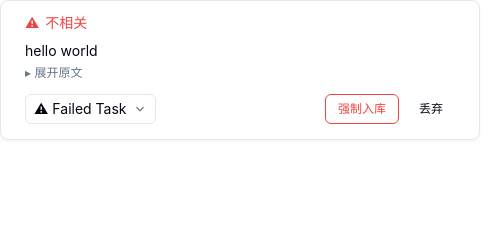
Overlay state machine › confirm button appears when reselecting different task in fallback mode
Check: the text "重新派发" is not shown
# 打开下拉并选择另一个任务
Click the button "⚠Failed Task" at (90, 109), box x1=25 y1=94 x2=156 y2=124
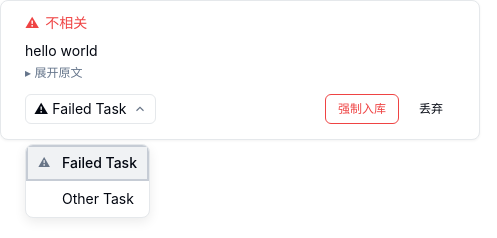
Click the button "Other Task" at (88, 199), box x1=26 y1=181 x2=149 y2=217
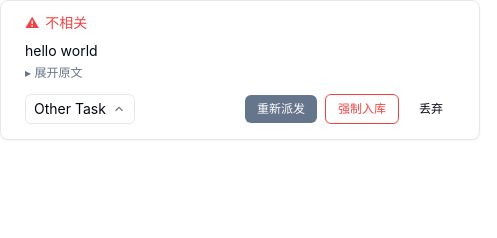
Check: the button "重新派发" is shown, box x1=245 y1=95 x2=317 y2=123
